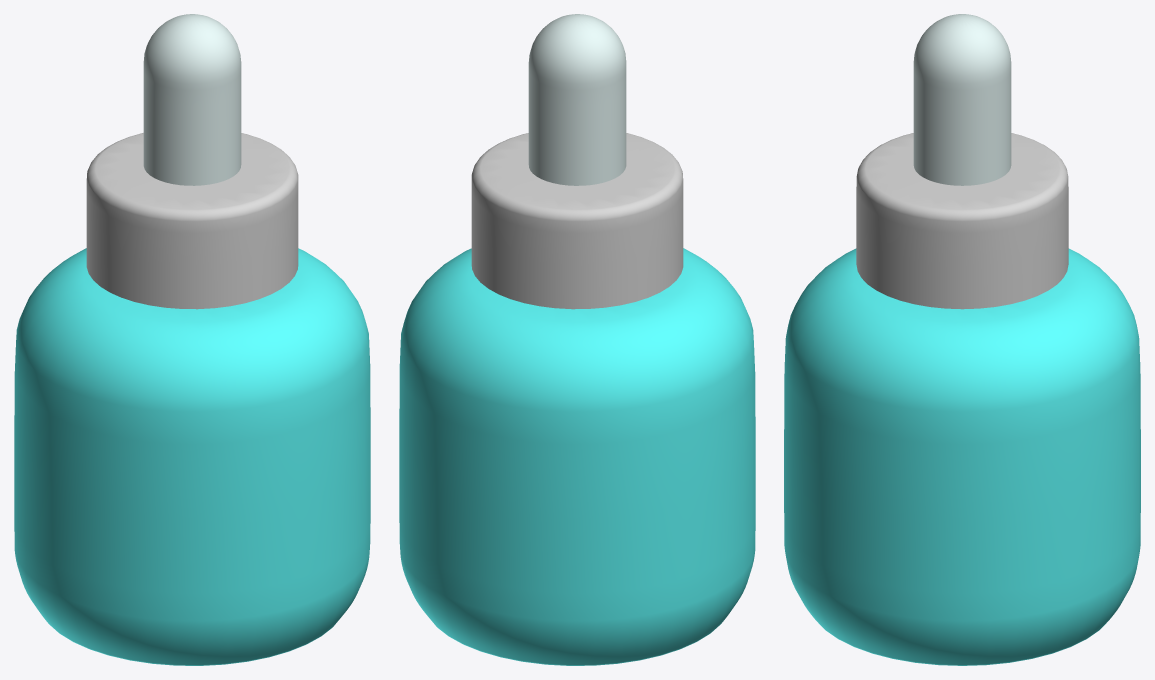
File: bottle1_4.glb
The picture shows the model from 3 angles, left to right: view 1: azimuth 30°, elevation 25°; view 2: azimuth 150°, elevation 25°; view 3: azimuth 270°, elevation 25°; orthographic projection.
Bounding box in the file's own units: 0.3655 × 0.66 × 0.3655.
